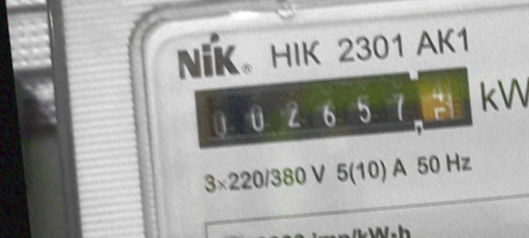0: (211, 108, 231, 137), (249, 101, 267, 133)
2: (285, 98, 304, 129)
4: (430, 76, 447, 103)
5: (356, 93, 375, 125), (433, 105, 450, 121)
6: (321, 97, 339, 128)
7: (392, 90, 410, 123)
screen: (185, 49, 487, 167)
